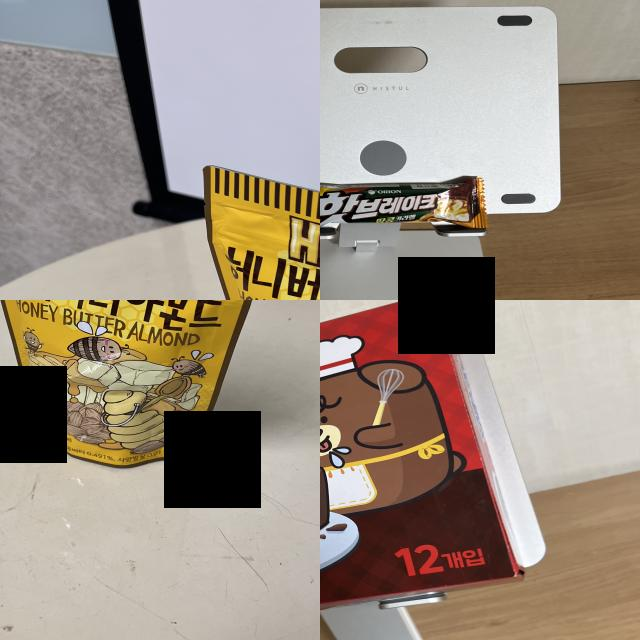honeyAmond: (0, 300, 272, 470)
hotBreak: (320, 183, 471, 224)
ohYes: (320, 316, 507, 624)
